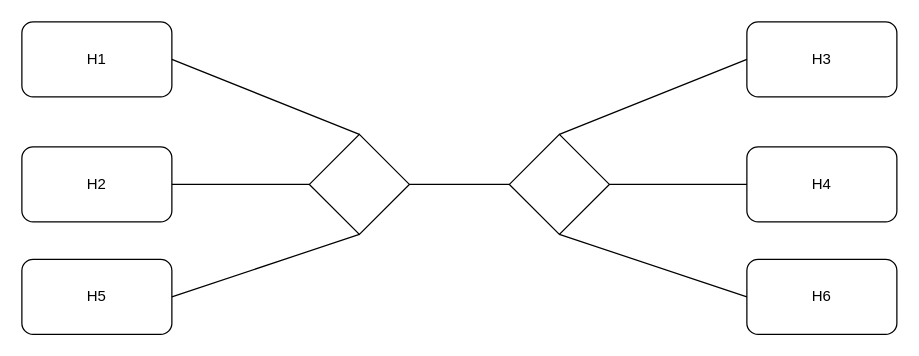
Image size: 919x356. Some labels were removed from this diagram. The box of each missing label's shape, as (x1, y1, x2, y2) in pixels:
s1: (308, 133, 409, 234)
s2: (508, 133, 609, 234)
